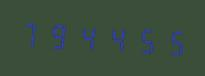five: (158, 22, 185, 60), (130, 21, 157, 58)
four: (74, 18, 101, 55), (102, 20, 129, 57)
nine: (45, 17, 72, 54)
seven: (17, 15, 44, 52)
